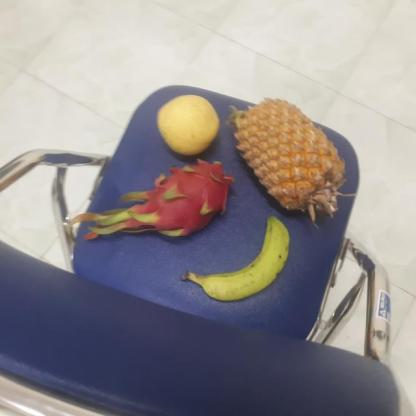banana: (181, 216, 288, 302)
pear: (154, 94, 222, 156)
pineapple: (221, 94, 344, 221)
pitaya: (138, 160, 231, 238)
